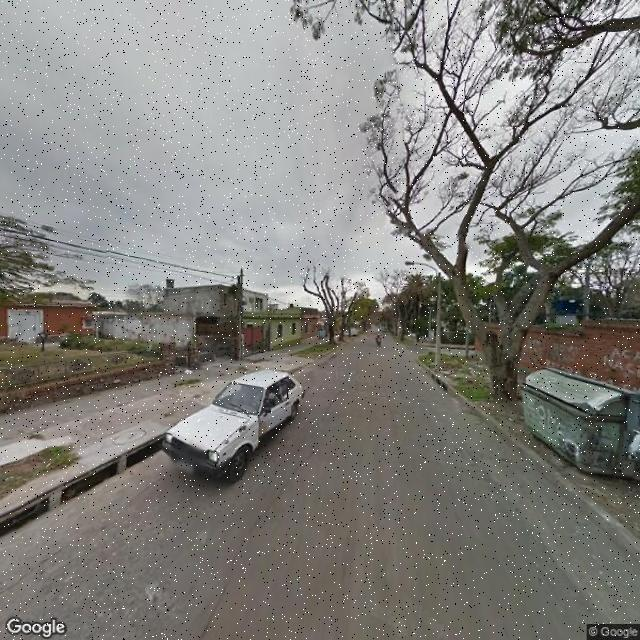garbage container: (512, 360, 640, 493)
